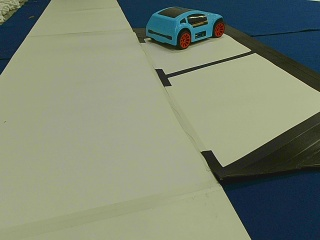car: (145, 8, 224, 49)
